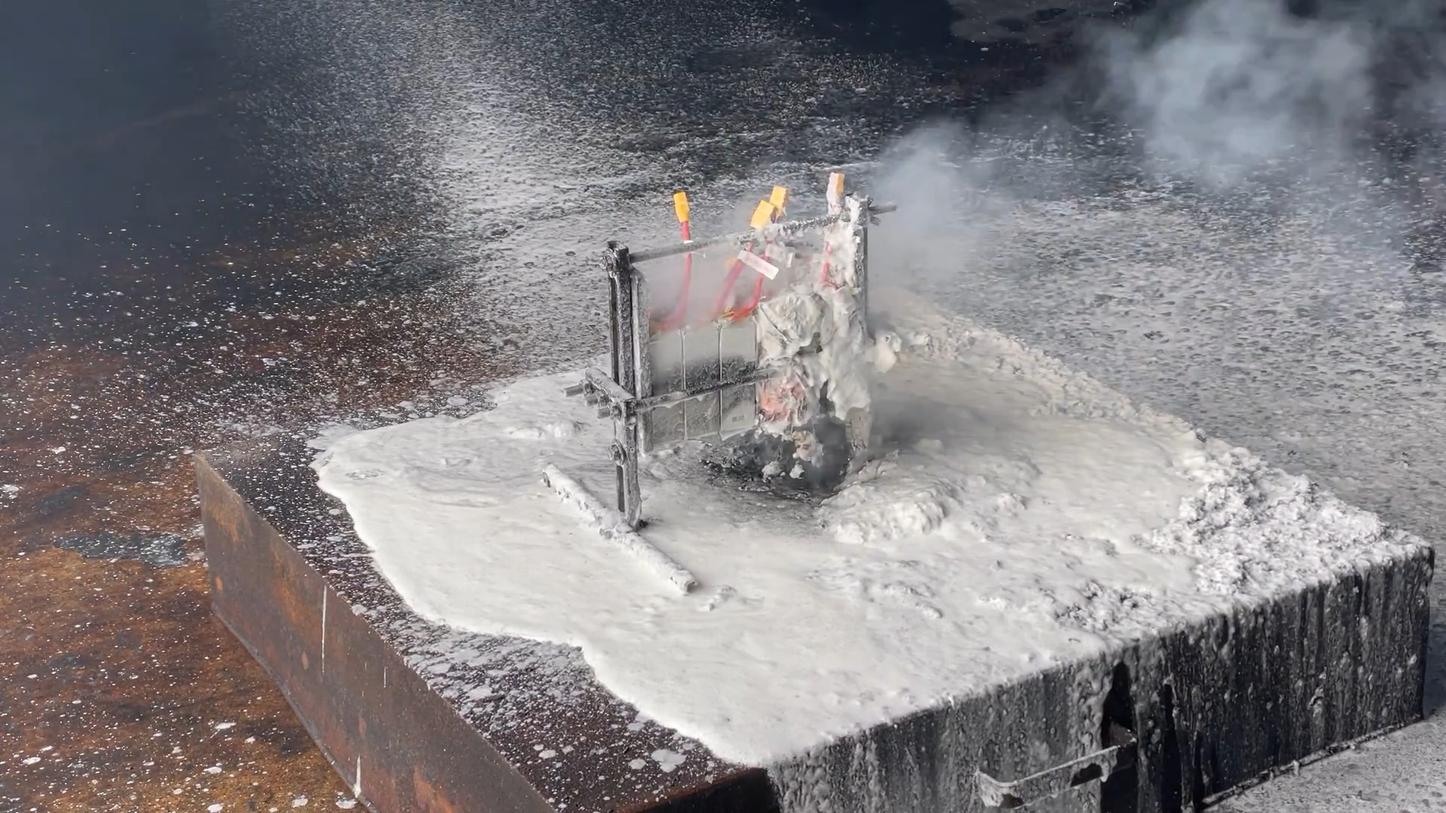smoke: (1077, 0, 1446, 197), (857, 108, 1048, 341)
